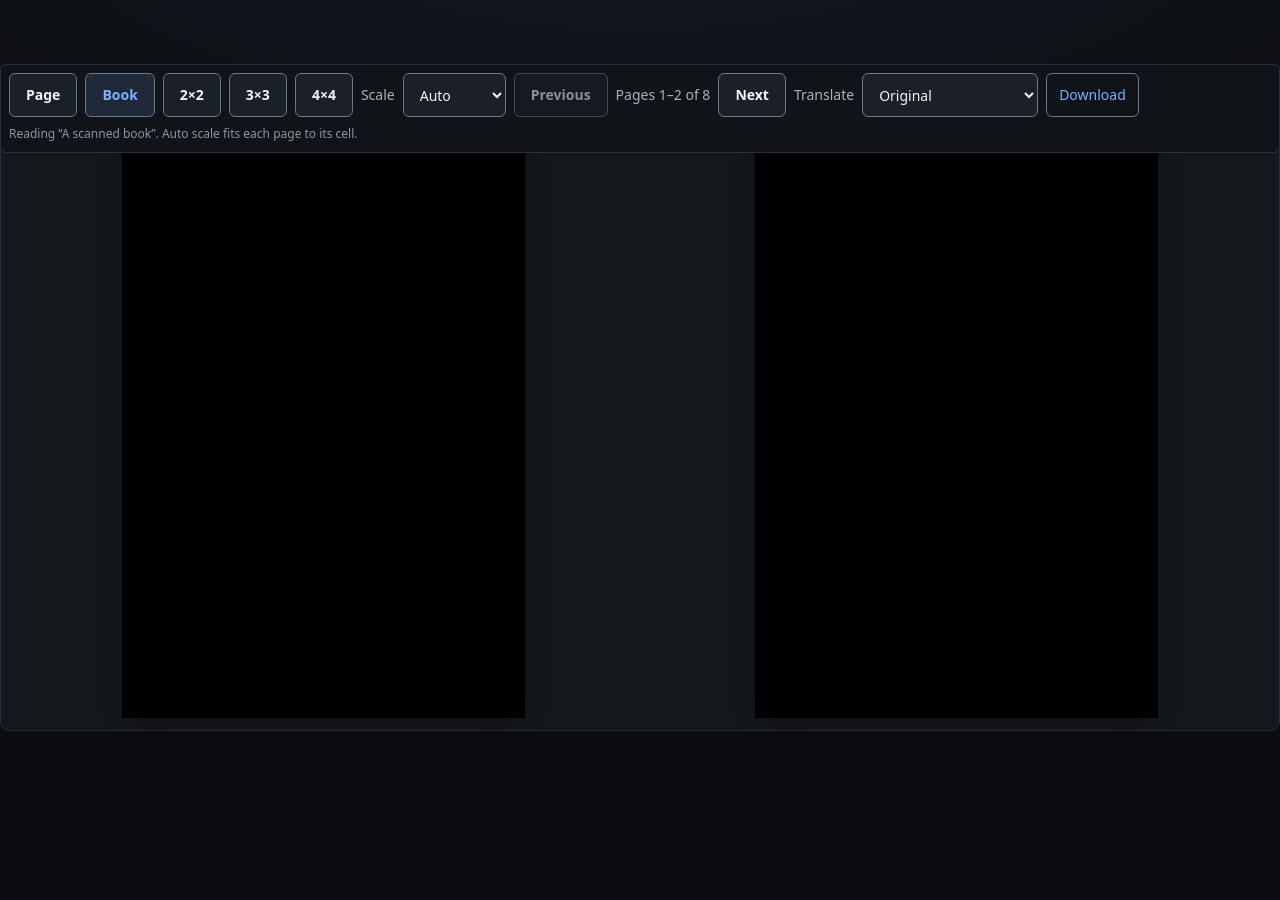
PdfViewer › shows a 2 by 2 grid and opens a page full screen
Click the button named "2 by 2 grid": click(192, 95) x1=163 y1=73 x2=221 y2=117
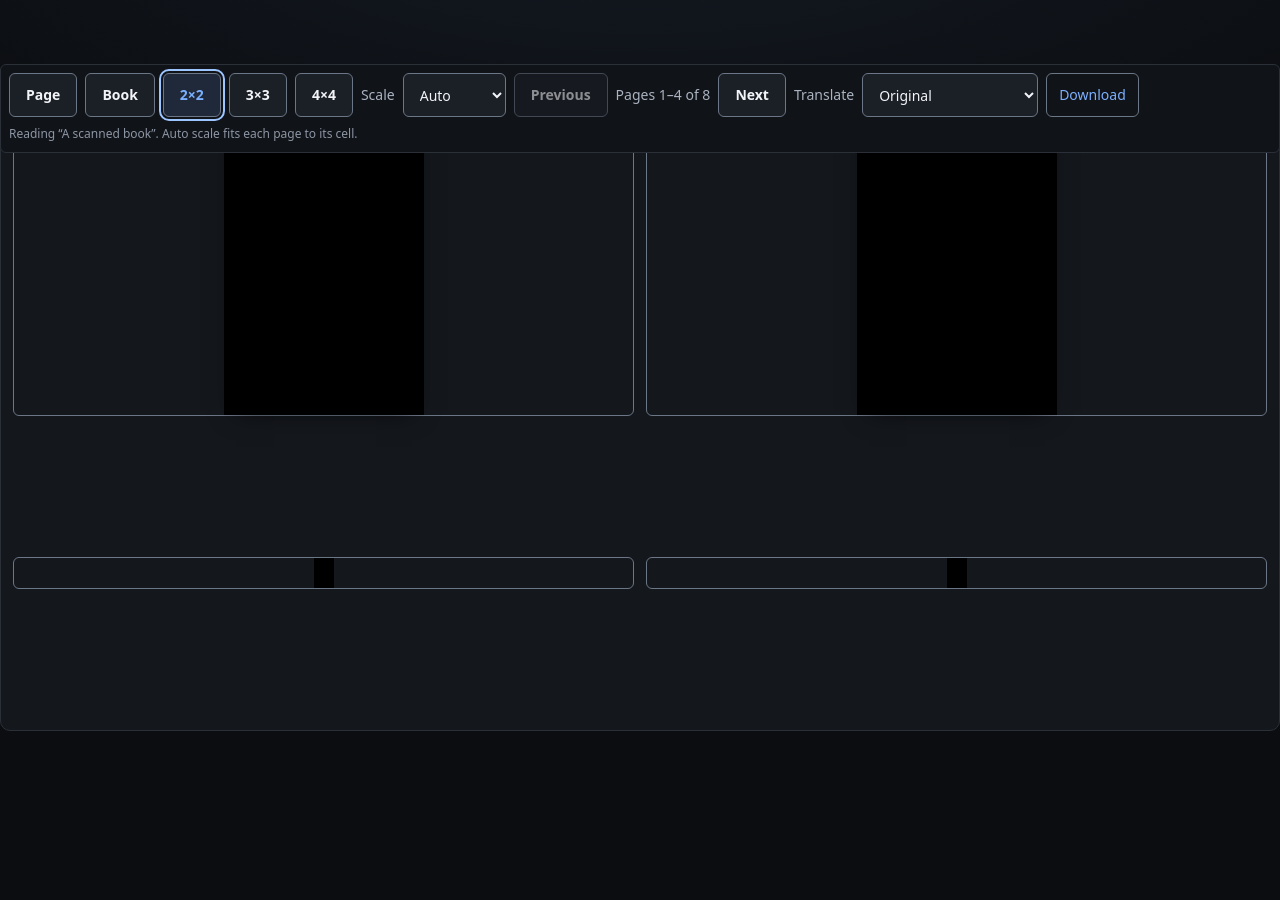
Result: the text "Pages 1–4 of 8" is shown at x1=616 y1=85 x2=710 y2=104
Click the button named "Page 3, open full screen": click(324, 573) x1=13 y1=557 x2=634 y2=589
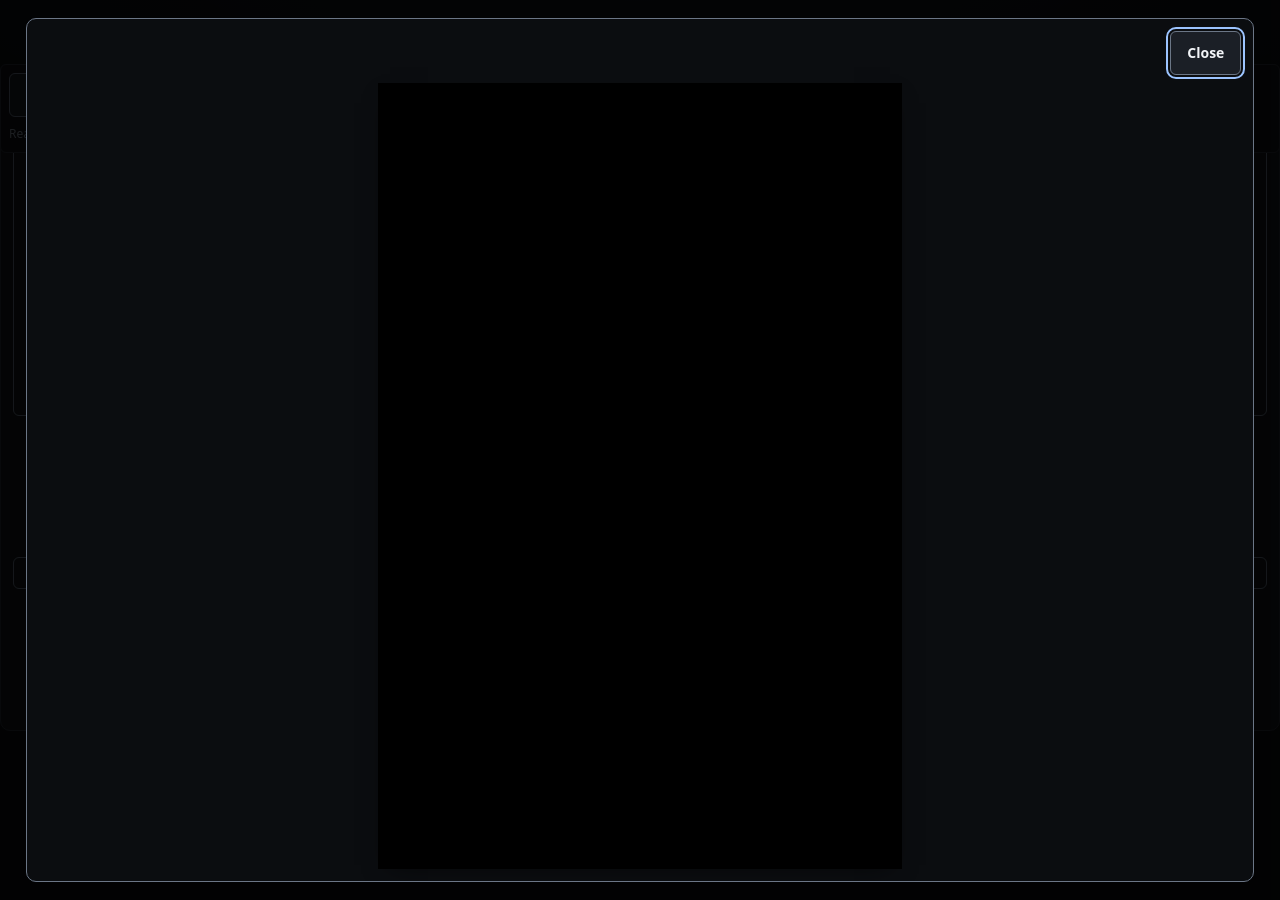
Result: the button "Close" is shown at x1=1170 y1=31 x2=1241 y2=75
